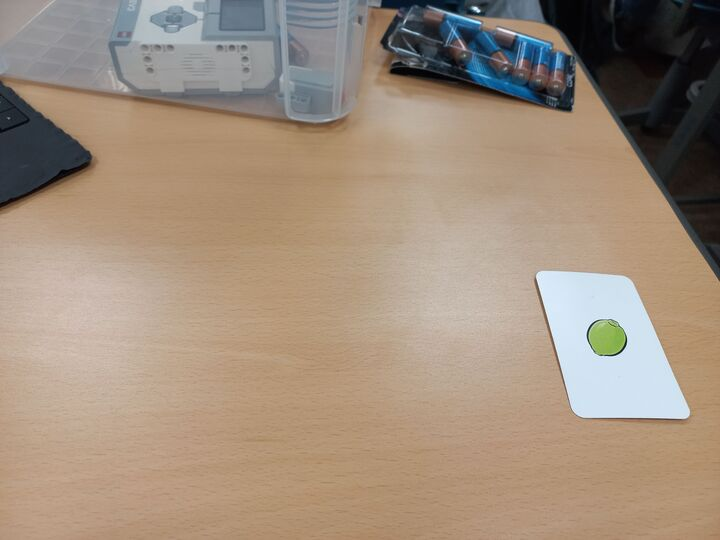lime1: (533, 269, 692, 422)
